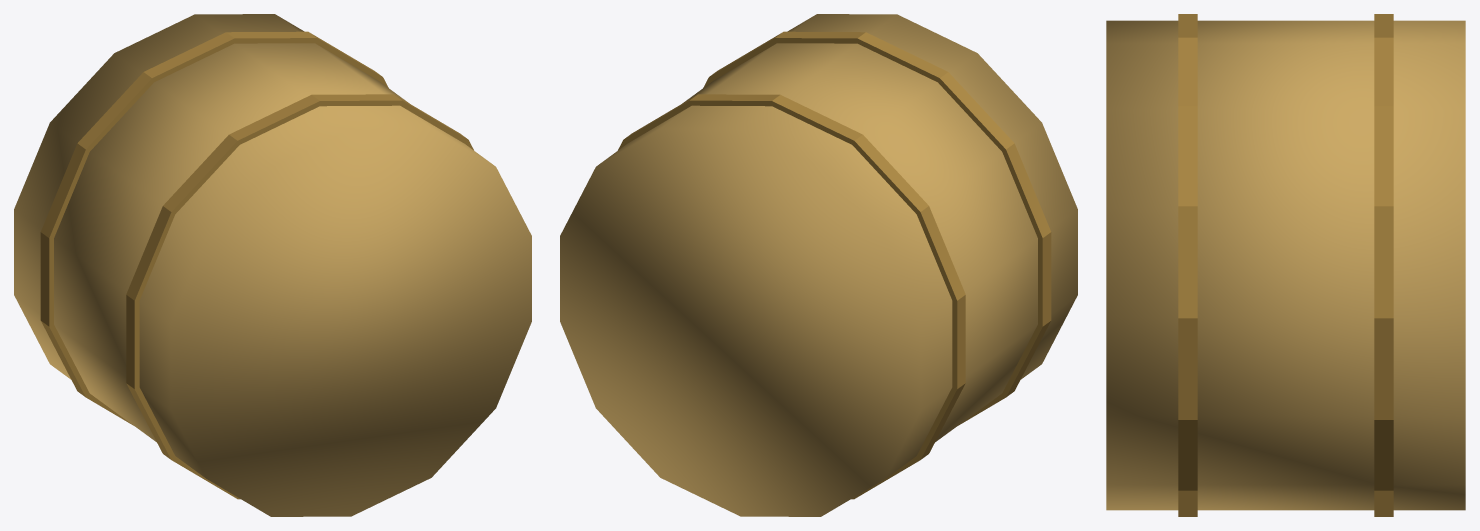
File: haybale.glb
3 renders of one model, left to right at view 1: azimuth 30°, elevation 25°; view 2: azimuth 150°, elevation 25°; view 3: azimuth 270°, elevation 25°, orthographic. The views are drawn at different scales.
Parts seen in each view (by area): view 1: Cone, Cone.001, Cone.002; view 2: Cone, Cone.002, Cone.001; view 3: Cone, Cone.001, Cone.002.
Part boxes in pixels (x1,y1,x2,y2): Cone: (14,14,531,516); Cone.001: (126,94,473,499); Cone.002: (40,31,388,425); Cone: (560,14,1077,516); Cone.002: (618,94,965,499); Cone.001: (703,31,1051,425); Cone: (1106,20,1465,510); Cone.001: (1178,14,1197,516); Cone.002: (1374,14,1393,516).
Size of the model in its own units: 1.5 by 1.54 by 1.1.
